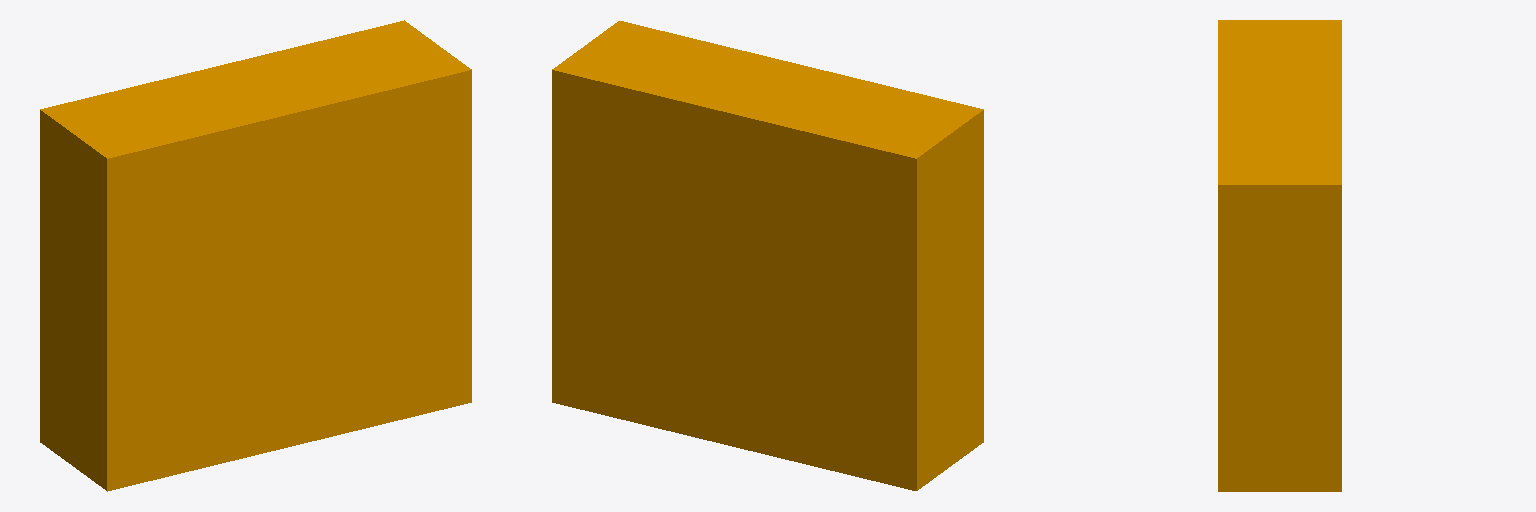
robot.urdf — tepra:
<?xml version="1.0"?>
<robot name="tepra">
    <link name="tepra_base_link">
        <contact>
            <lateral_friction value="1.0"/>
            <spinning_friction value="0.01"/>
            <rolling_friction value="0.01"/>
            <contact_cfm value="0.0"/>
            <contact_erp value="1.0"/>
        </contact>
        <inertial>
            <origin rpy="0 0 0" xyz="0 0 0"/>
            <mass value="0.051"/>
            <inertia ixx="1" ixy="0" ixz="0" iyy="1" iyz="0" izz="1"/>
        </inertial>
        <visual>
            <origin rpy="0 0 1.5708" xyz="0 0 0"/>
            <geometry>
                <mesh filename="cuboid/visual/tepra.obj" scale="1.0 1.0 1.0"/>
            </geometry>
        </visual>
        <collision>
            <origin rpy="0 0 1.5708" xyz="0 0 0"/>
            <geometry>
                <mesh filename="cuboid/collision/tepra.stl" scale="1.0 1.0 1.0"/>
            </geometry>
        </collision>
    </link>
</robot>

--- What the picture shows (computed from the rendered views, not written in the file) ---
Views: 3 orthographic renders of the robot side by side, from view 1: azimuth 30°, elevation 25°; view 2: azimuth 150°, elevation 25°; view 3: azimuth 270°, elevation 25°.
Model tepra with 1 links and 0 joints (none), rooted at tepra_base_link, posed all joints at 0.
Visible links, largest first — view 1: tepra_base_link; view 2: tepra_base_link; view 3: tepra_base_link.
Link boxes in pixels (x1,y1,x2,y2): tepra_base_link: (40,20,471,491); tepra_base_link: (552,21,983,490); tepra_base_link: (1218,20,1341,491).
Bounding box of the posed robot: 0.078 × 0.025 × 0.068 m (x, y, z).
Meshes: 1 distinct files referenced, 1 mesh visuals loaded (1 OBJ).